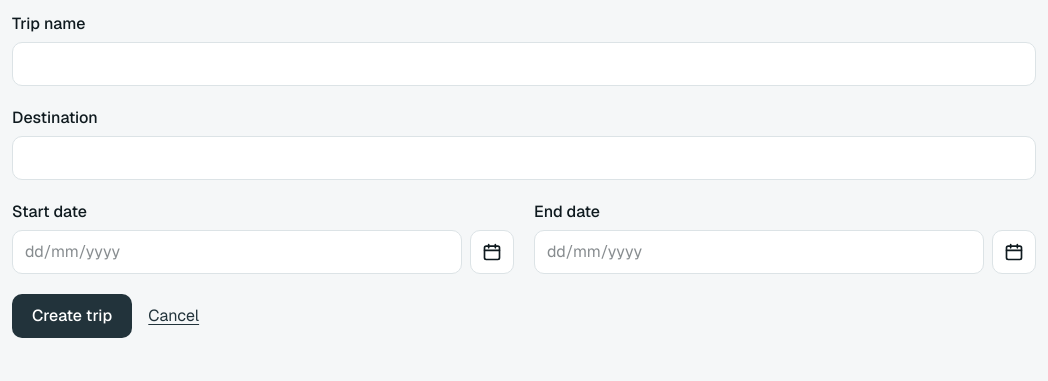
Test: TripForm › still says a date is missing when the field is empty
The width and height of the screenshot is (1048, 381).
In the field labelled "Trip name": (524, 64) [12,42,1036,86], type "Northern loop"
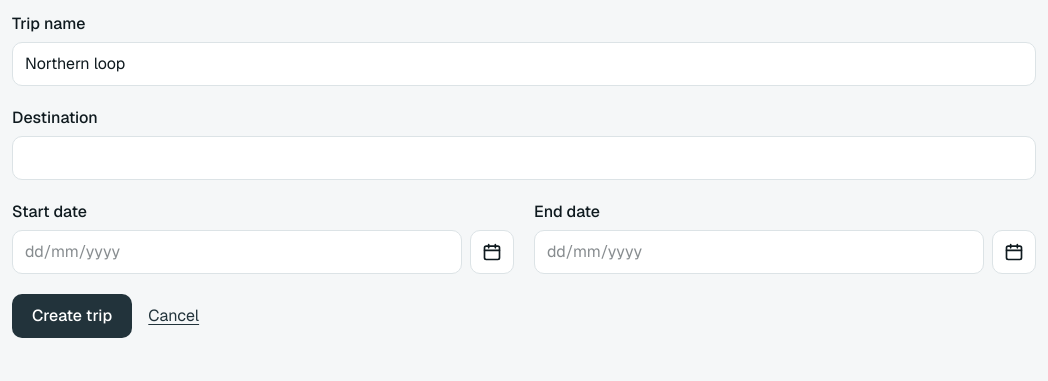
In the field labelled "Destination": (524, 158) [12,136,1036,180], type "Chiang Mai"
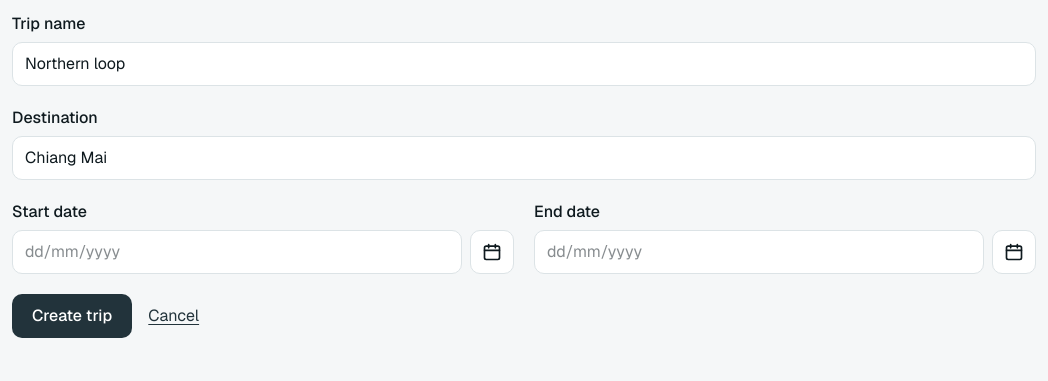
In the field labelled "End date": (759, 252) [534,230,984,274], type "05/12/2026"
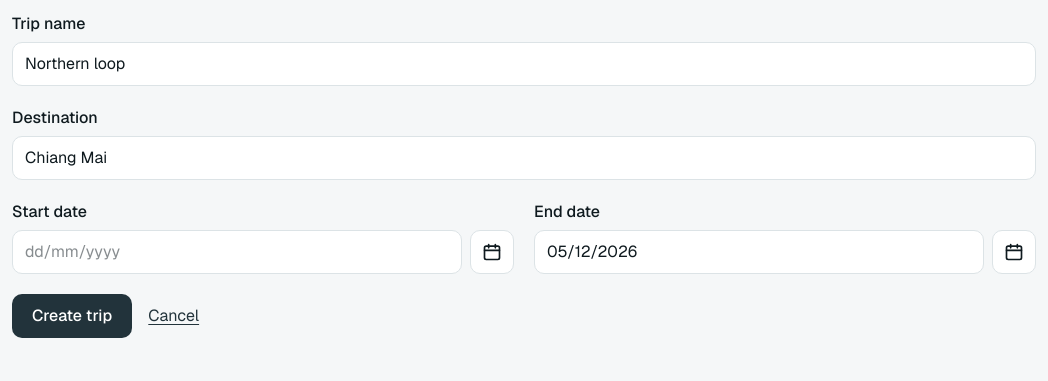
Click the button "Create trip": (72, 316) [12,294,132,338]
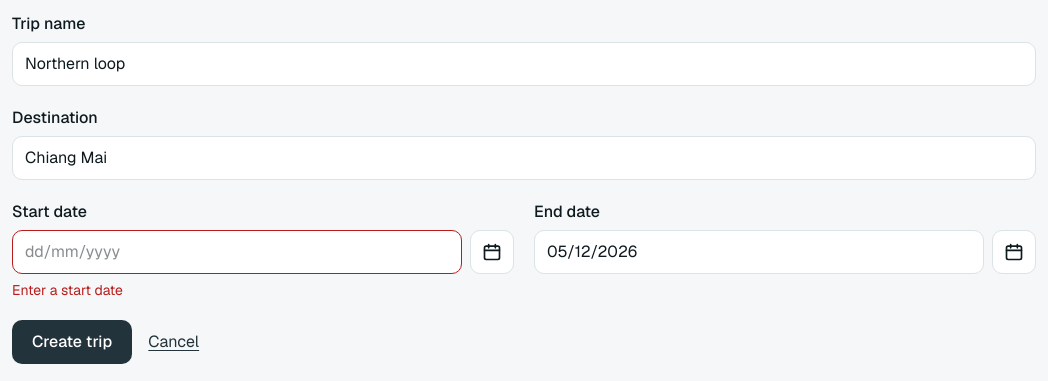
Now the text "Enter a start date" is shown, box [12,281,123,299]
